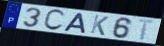3: (21, 7, 42, 28)
6: (112, 17, 133, 40)
A: (62, 12, 87, 34)
C: (42, 9, 67, 32)
K: (89, 14, 110, 37)
T: (136, 18, 158, 42)
